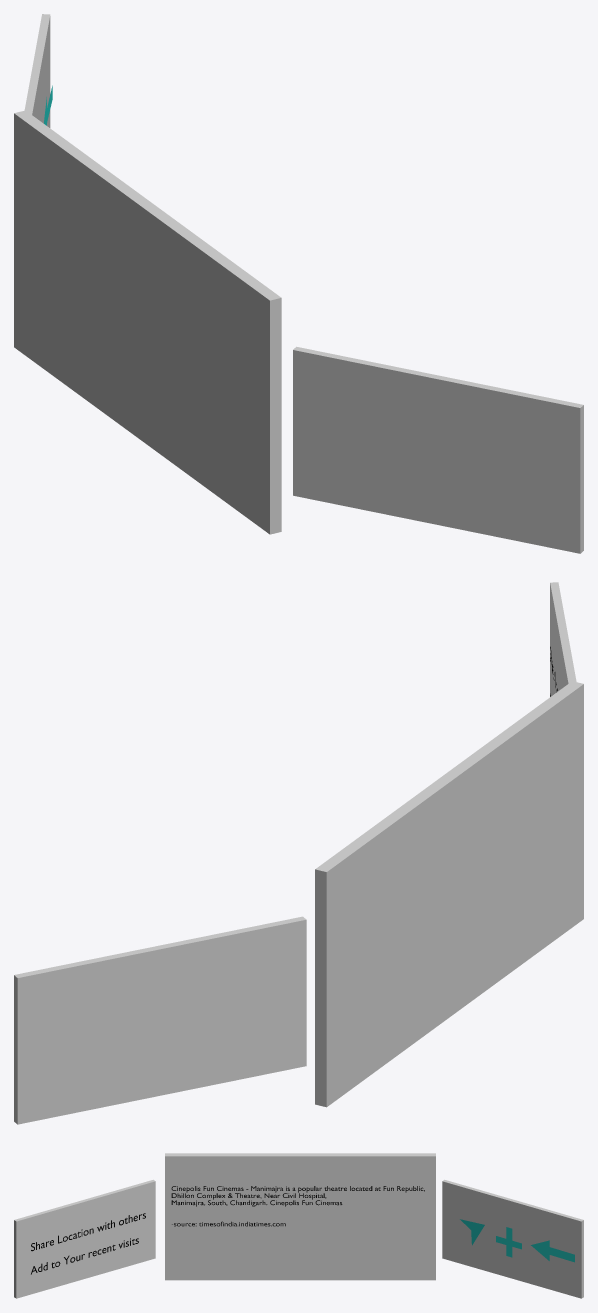
Rendered from mall.fbx.
3 views of the same model, one above another, from view 1: azimuth 30°, elevation 25°; view 2: azimuth 150°, elevation 25°; view 3: azimuth 270°, elevation 25° (orthographic). The views are drawn at different scales.
Parts seen in each view (by area): view 1: Cube.002; view 2: Cube.002; view 3: Cube.002, Text, Text.001, Plane.002, Plane.001, Plane.
Part boxes in pixels (x1,y1,x2,y2): Cube.002: (14,14,583,553); Cube.002: (14,582,583,1124); Cube.002: (14,1153,583,1298); Text: (171,1186,424,1226); Text.001: (31,1213,145,1274); Plane.002: (531,1240,574,1262); Plane.001: (496,1227,521,1257); Plane: (460,1219,484,1245).
Size of the model in its own units: 110 by 141 by 588.
